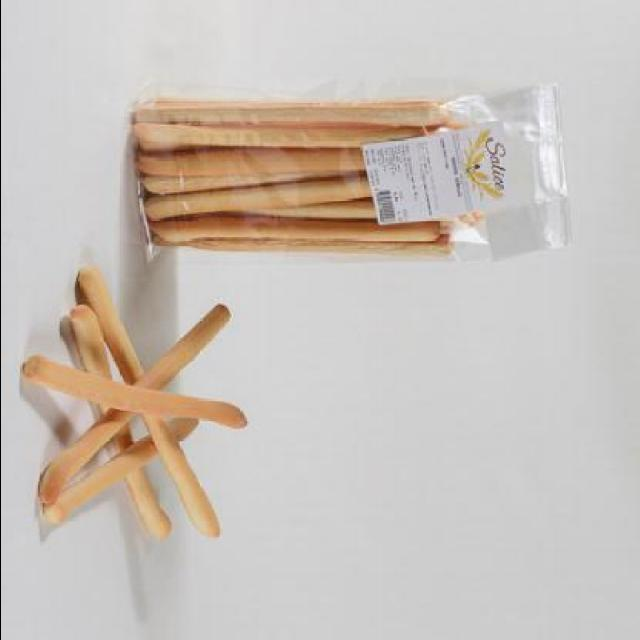Grissini: (18, 268, 248, 546)
